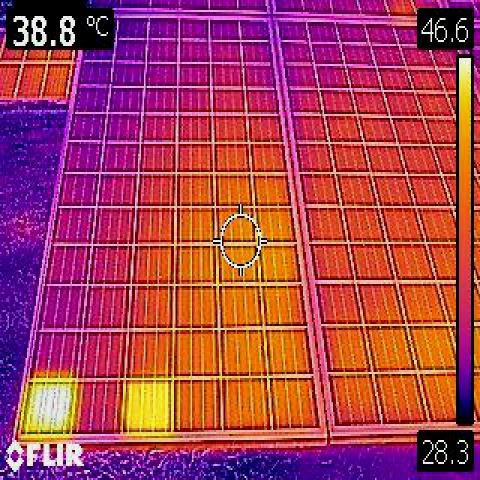fault: (127, 379, 171, 432), (30, 383, 74, 431)
